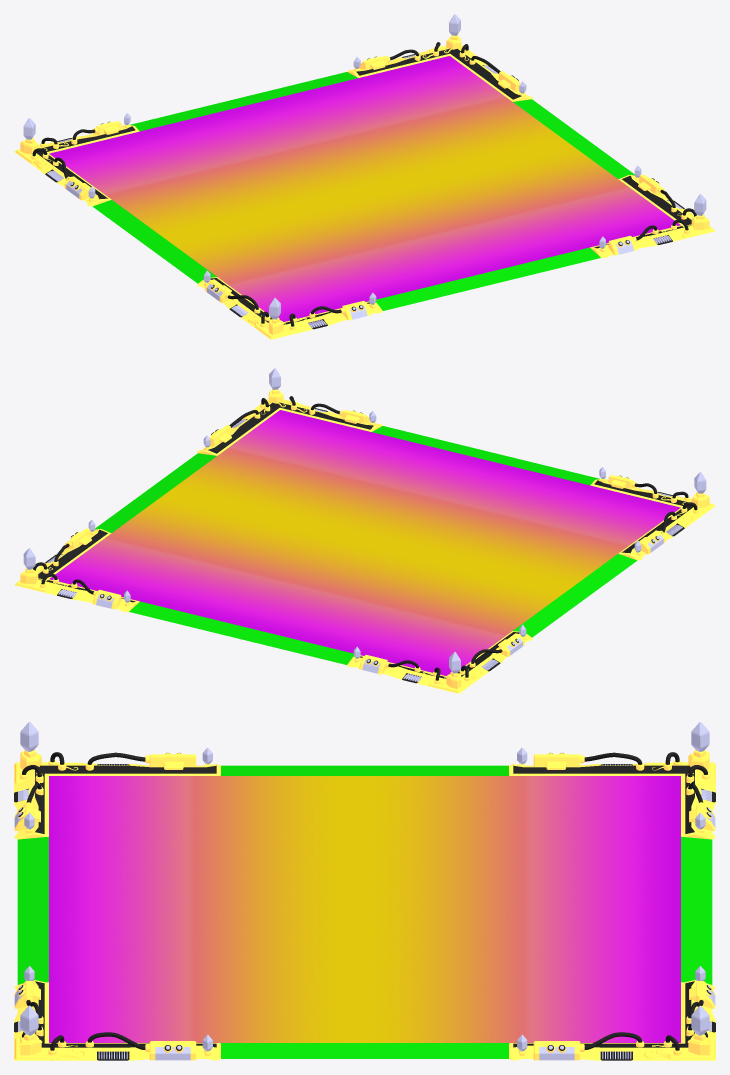
The model's file is NFT_golden_8x8.fbx.
The picture shows the model from 3 angles, top to bottom: view 1: azimuth 30°, elevation 25°; view 2: azimuth 150°, elevation 25°; view 3: azimuth 270°, elevation 25°; orthographic projection. The views are drawn at different scales.
Parts seen in each view (by area): view 1: _screen_low1, walkways, frame_main (×4); view 2: _screen_low1, walkways, frame_main (×4); view 3: _screen_low1, walkways, frame_main (×4), cabinet1 (×2).
Boxes of the visible parts, x1=… form: _screen_low1: x1=49, y1=56, x2=680, y2=321; walkways: x1=92, y1=72, x2=634, y2=310; frame_main (×4): x1=14, y1=48, x2=715, y2=339; _screen_low1: x1=49, y1=410, x2=680, y2=675; walkways: x1=95, y1=426, x2=637, y2=664; frame_main (×4): x1=14, y1=402, x2=715, y2=693; _screen_low1: x1=49, y1=776, x2=680, y2=1042; walkways: x1=17, y1=765, x2=712, y2=1058; frame_main (×4): x1=14, y1=764, x2=715, y2=1060; cabinet1 (×2): x1=149, y1=1041, x2=580, y2=1060.
Size of the model in its own units: 315 by 25.22 by 315.
Materials: 5 (1 with a texture image).
